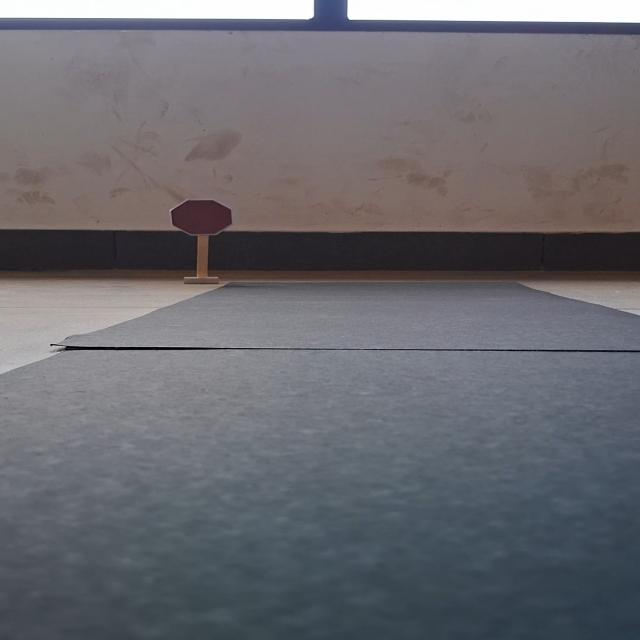Stop: (169, 199, 233, 236)
